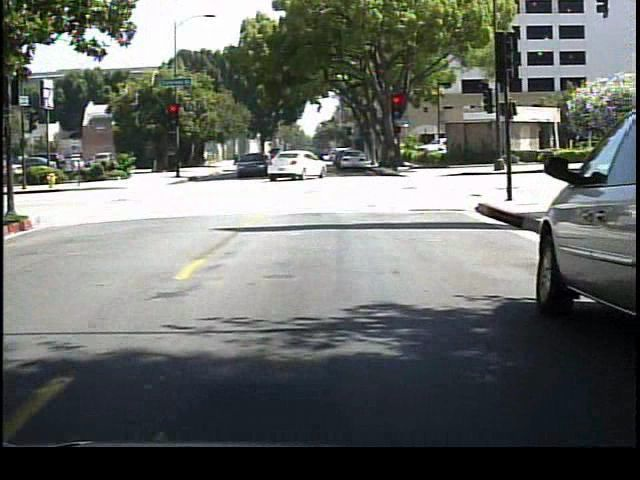person: (310, 143, 327, 179)
